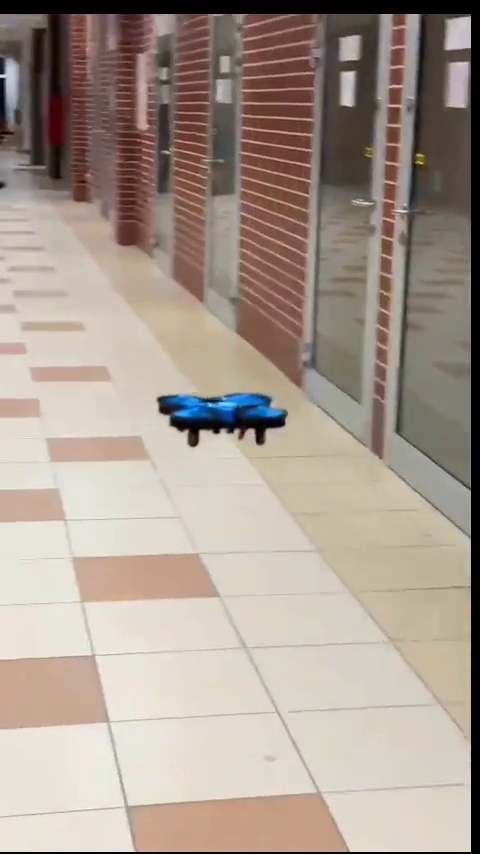drone: (156, 392, 293, 447)
